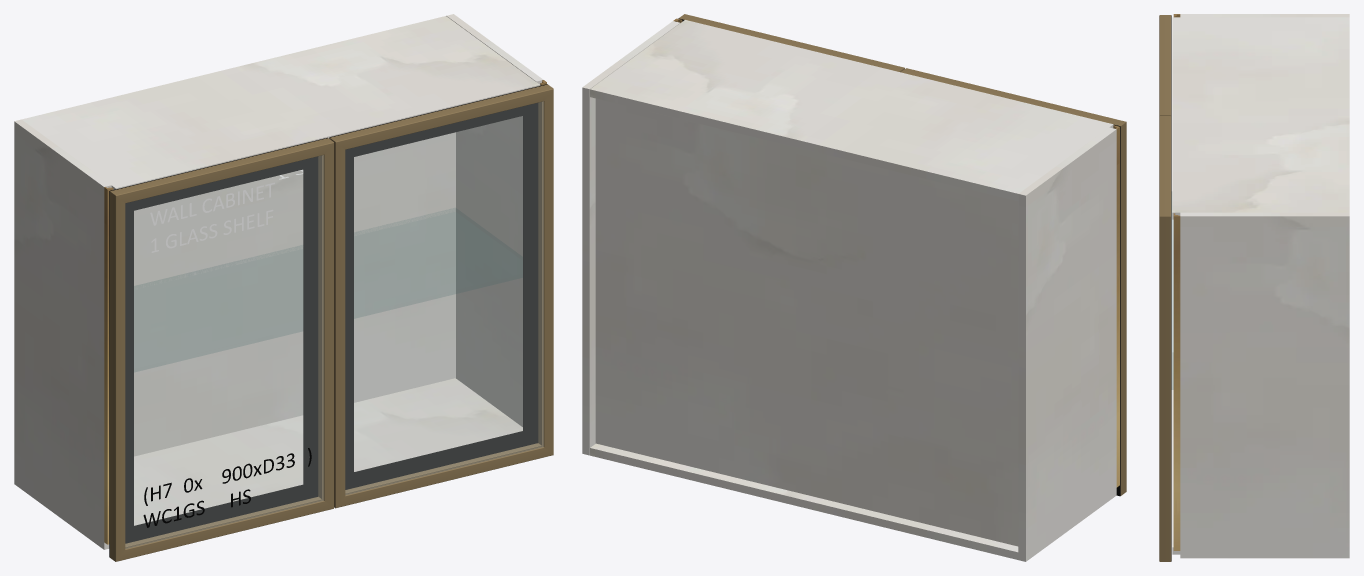
The model's file is WC1GS2GHS (H720 XW900 XD336).glb.
3 renders of one model, left to right at view 1: azimuth 30°, elevation 25°; view 2: azimuth 150°, elevation 25°; view 3: azimuth 270°, elevation 25°, orthographic. The views are drawn at different scales.
Size of what is drawn, in the model's own units: 0.9 by 0.7185 by 0.366.
Materials: 8 (2 with a texture image).
